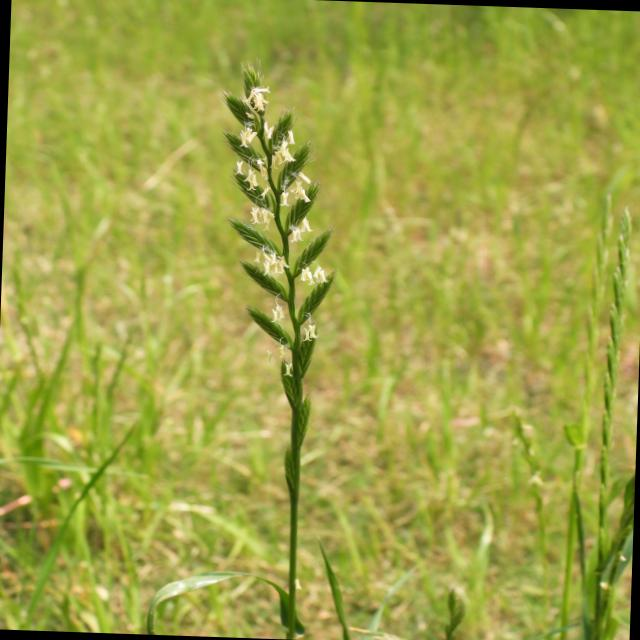Lolium: (197, 56, 348, 638), (557, 206, 640, 640)
